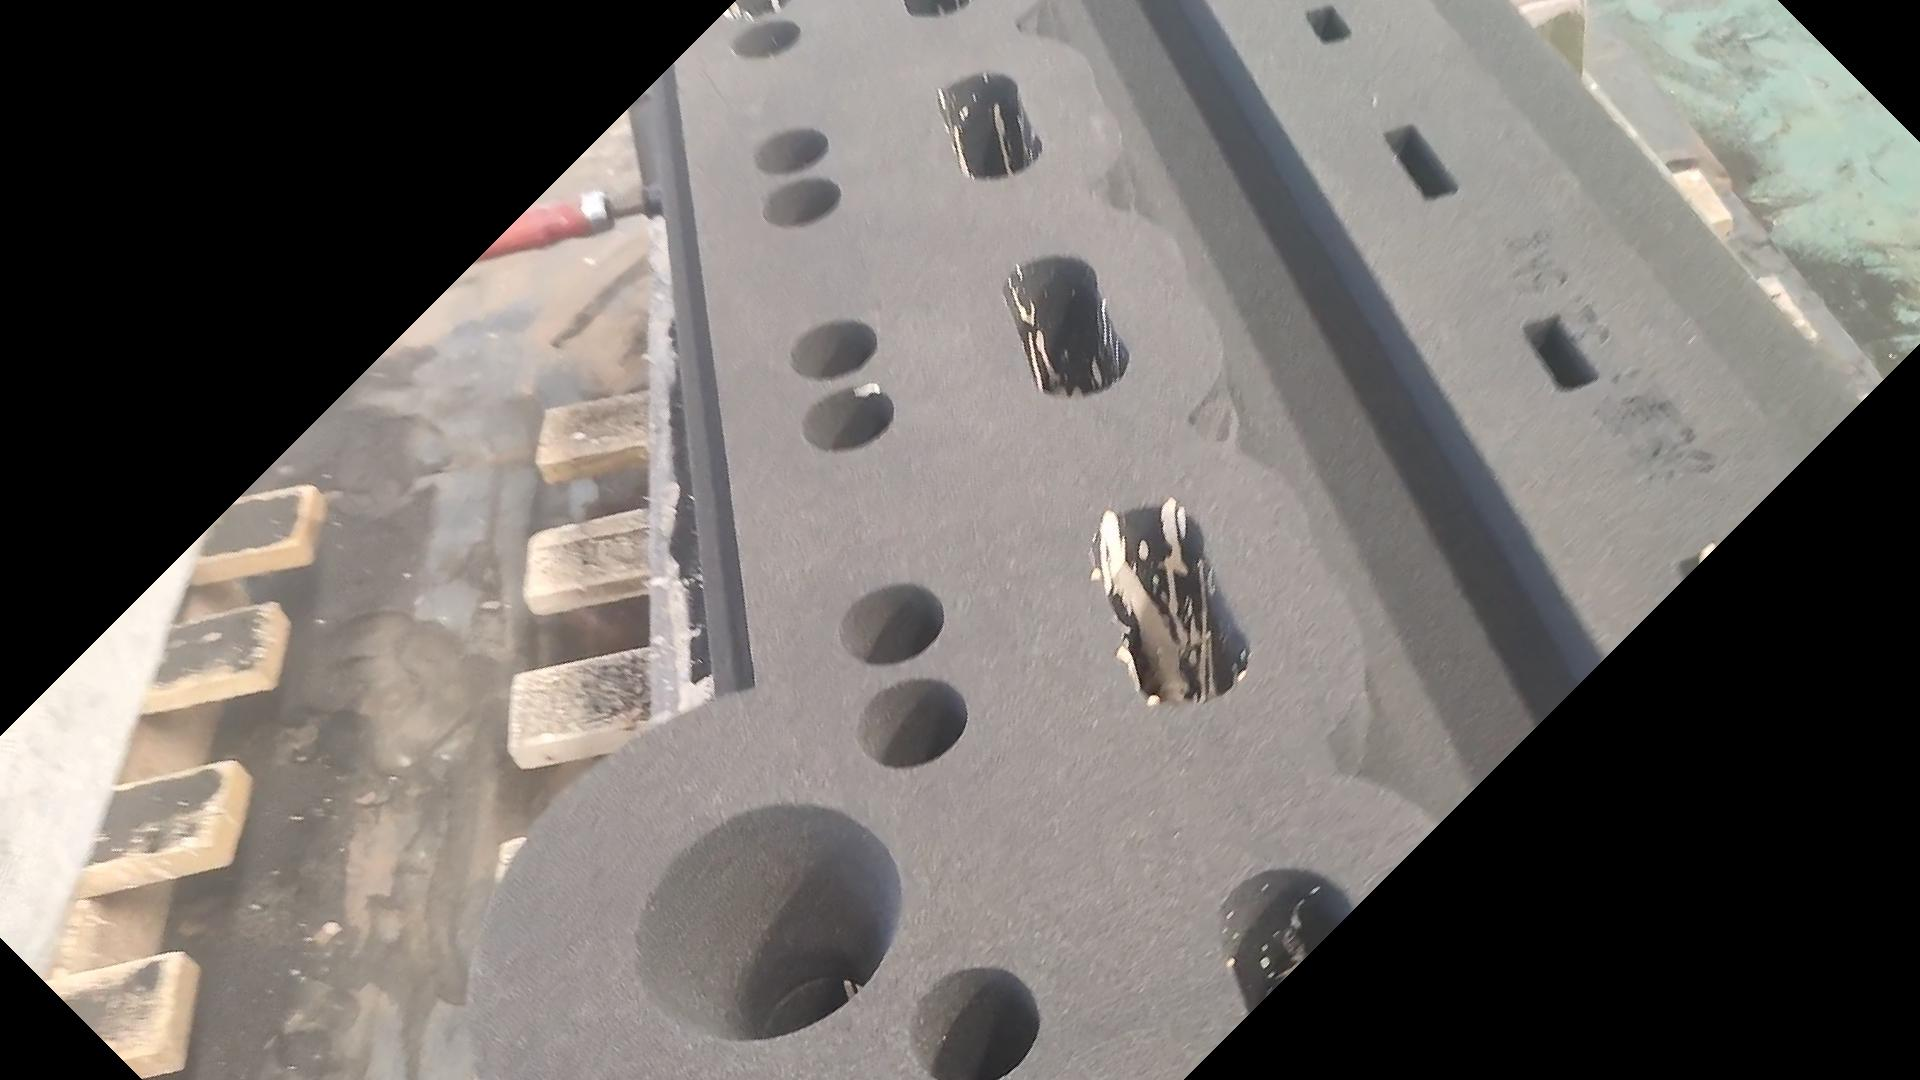pouring hole: (632, 800, 903, 1044)
